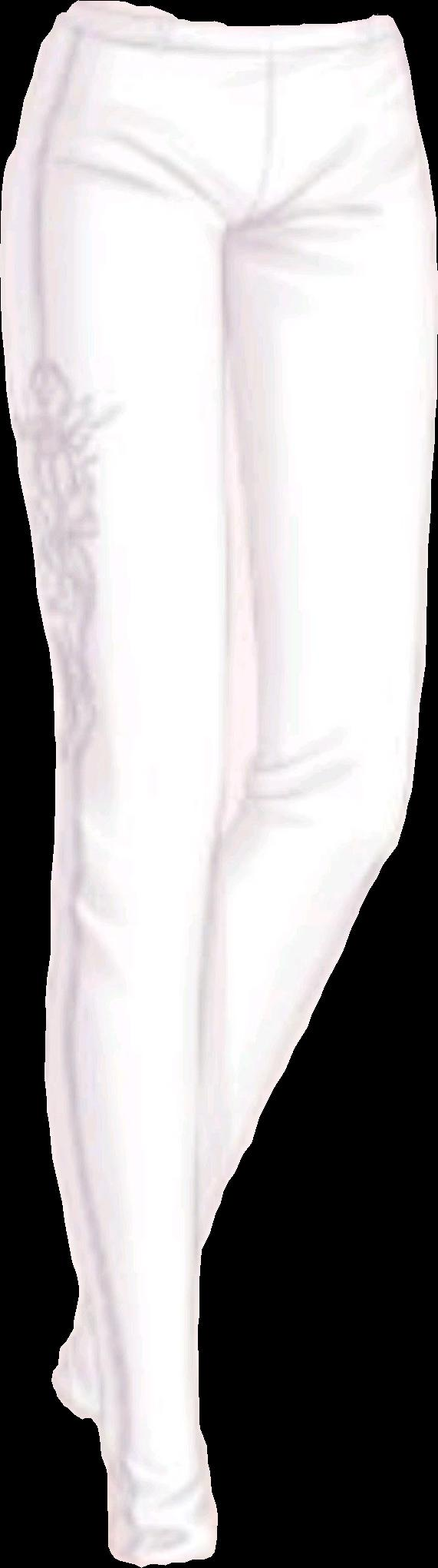Hemline: (105, 1538, 216, 1566)
Pantleg: (54, 15, 437, 1426), (0, 0, 275, 1566)
Waistline: (45, 24, 405, 70), (68, 0, 394, 38)
